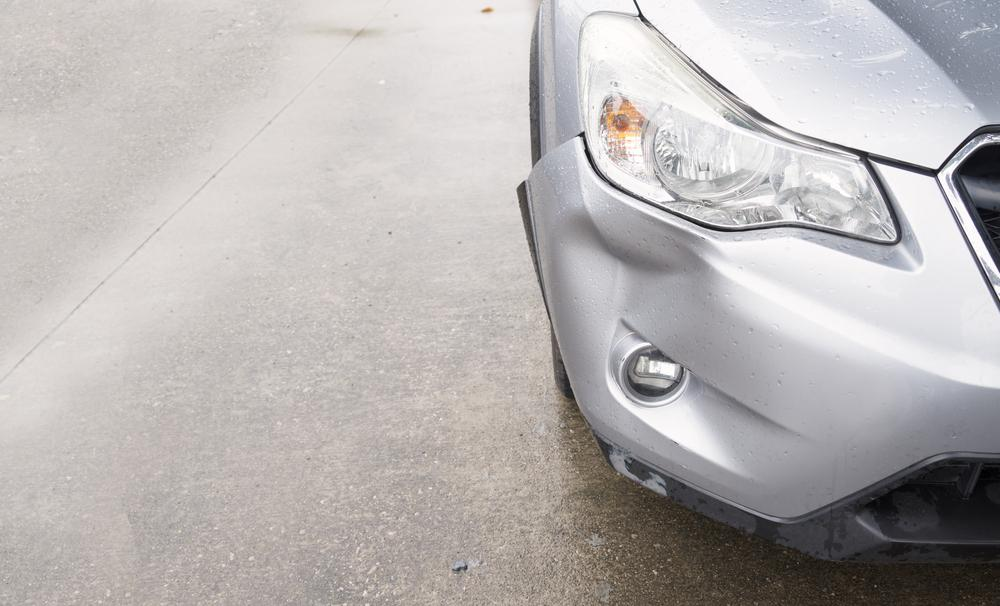dent: (560, 210, 710, 324)
scratch: (597, 430, 674, 499)
